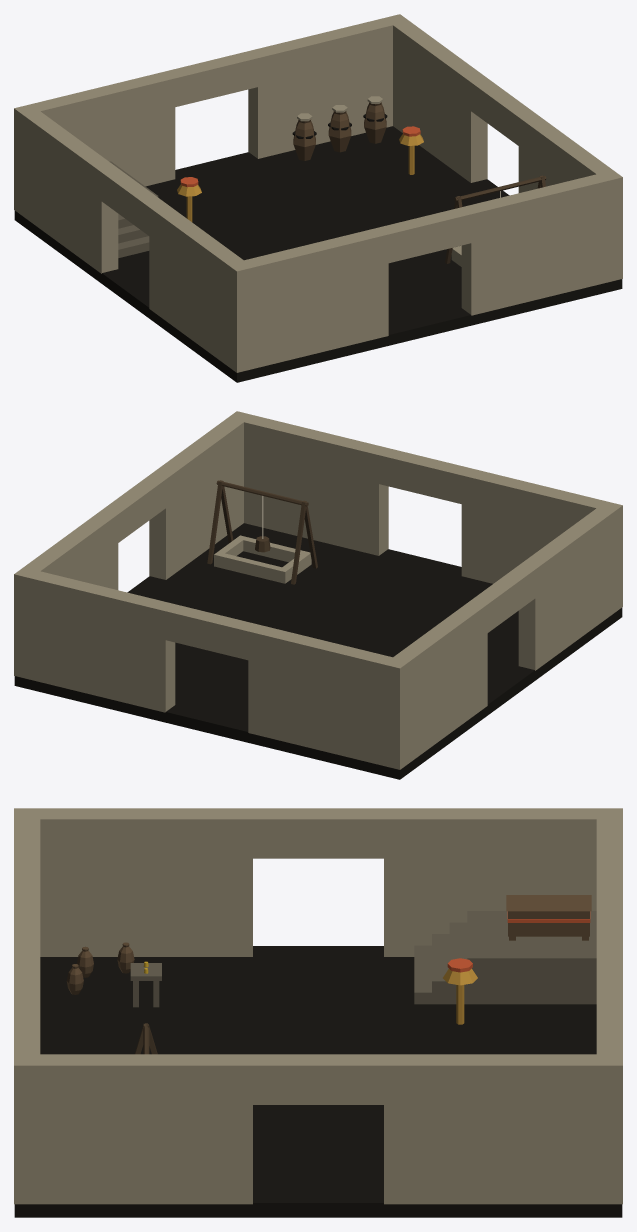
File: BronzeShaftStair.fbx
3 renders of one model, top to bottom at view 1: azimuth 30°, elevation 25°; view 2: azimuth 150°, elevation 25°; view 3: azimuth 270°, elevation 25°, orthographic. The views are drawn at different scales.
Visible parts, largest first — view 1: BronzeShaftStair; view 2: BronzeShaftStair; view 3: BronzeShaftStair.
Part boxes in pixels (<box>): BronzeShaftStair: <box>14,14,622,382</box>; BronzeShaftStair: <box>14,411,622,779</box>; BronzeShaftStair: <box>14,808,622,1217</box>.
Bounding box in the file's own units: 1202 × 332 × 1202.
9 materials, 9 textured.
